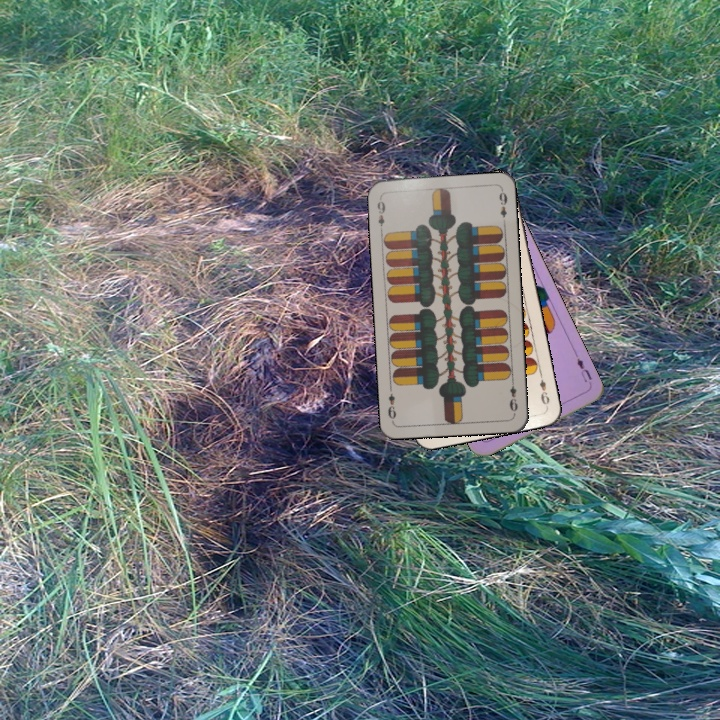E9: (536, 369, 552, 410), (505, 375, 520, 416), (373, 194, 388, 235)
EU: (572, 351, 595, 390)
